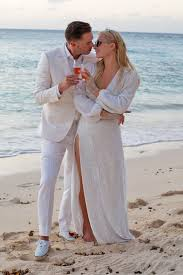without_mask: (66, 23, 92, 56), (94, 33, 116, 60)
